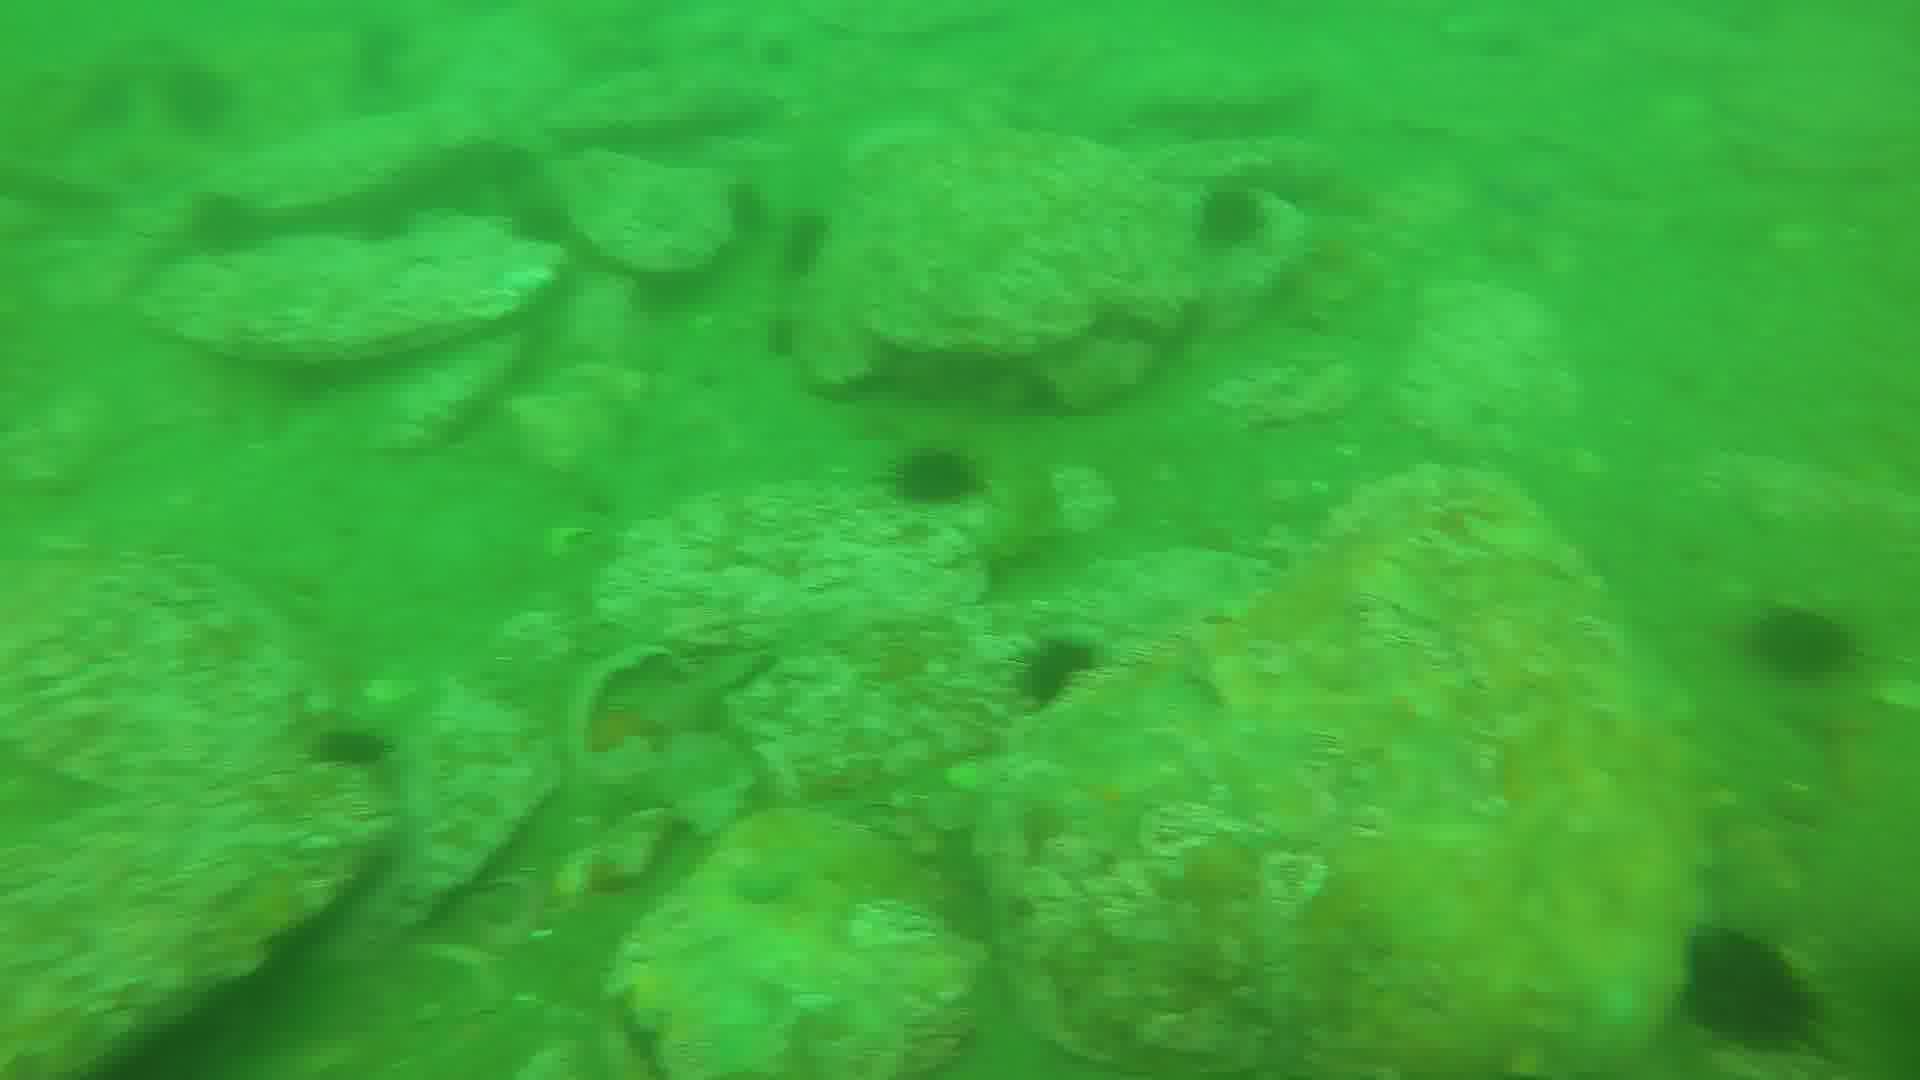echinus: (1677, 923, 1822, 1062), (1746, 601, 1854, 684), (887, 434, 988, 506), (1011, 636, 1097, 709), (191, 182, 266, 255), (363, 179, 439, 247), (171, 63, 237, 138), (781, 204, 837, 276), (1199, 185, 1269, 239)
